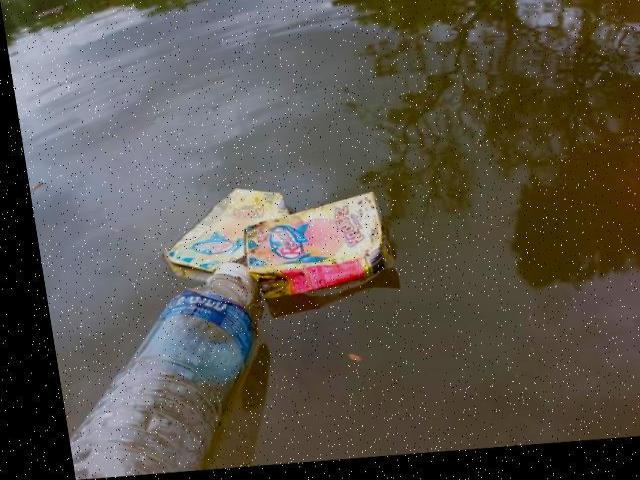Bottle: (57, 255, 269, 480)
Box: (242, 190, 387, 297), (162, 181, 292, 284)
